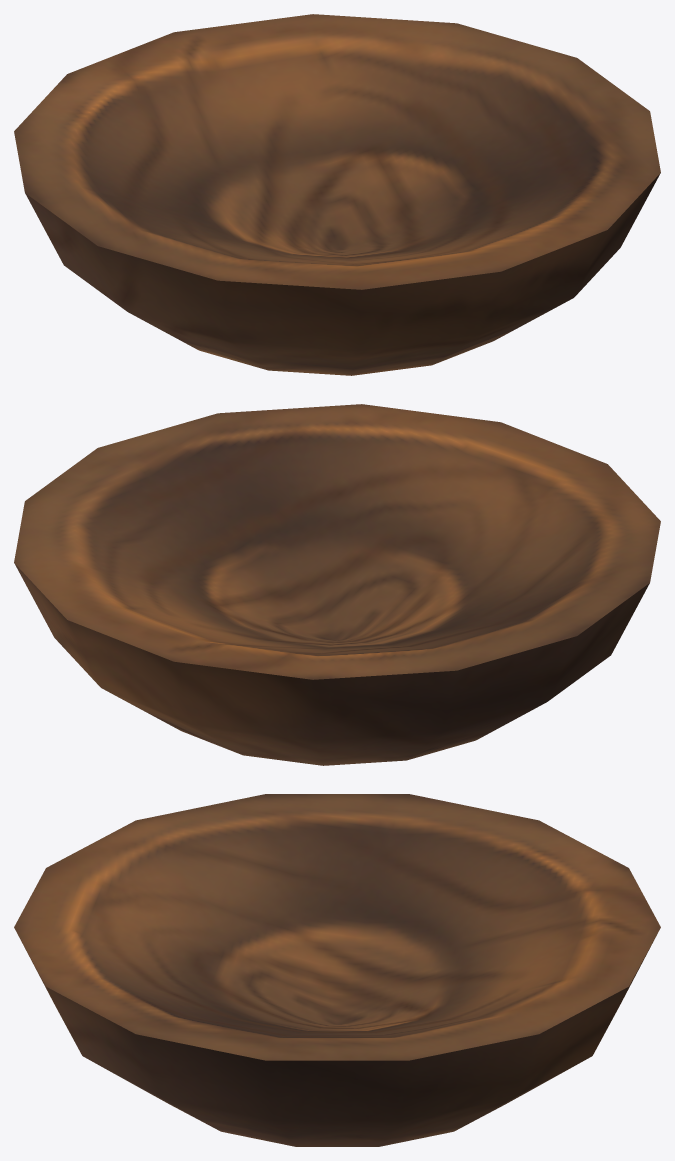
The model's file is plate_wood2.fbx.
3 renders of one model, top to bottom at view 1: azimuth 30°, elevation 25°; view 2: azimuth 150°, elevation 25°; view 3: azimuth 270°, elevation 25°, orthographic.
Parts seen in each view (by area): view 1: plate_wood2; view 2: plate_wood2; view 3: plate_wood2.
Boxes of the visible parts, x1,y1,x2,y2 form: plate_wood2: [14, 14, 660, 375]; plate_wood2: [14, 404, 660, 765]; plate_wood2: [14, 794, 660, 1146].
Size of the model in its own units: 29.66 by 7.4 by 30.42.
